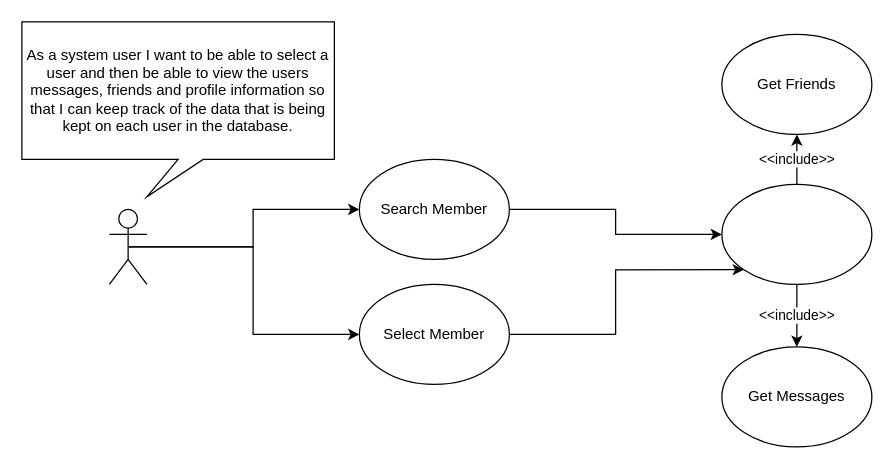
The diagram is 894 pixels wide and 469 high, and some of its shapes have lost their labels. The shapes that lost their labels are listed below. From the top down, each one's box as (x1, y1, x2, y2) in pixels, then its label:
(108, 208, 147, 284): User
(721, 183, 872, 284): Get User Information
